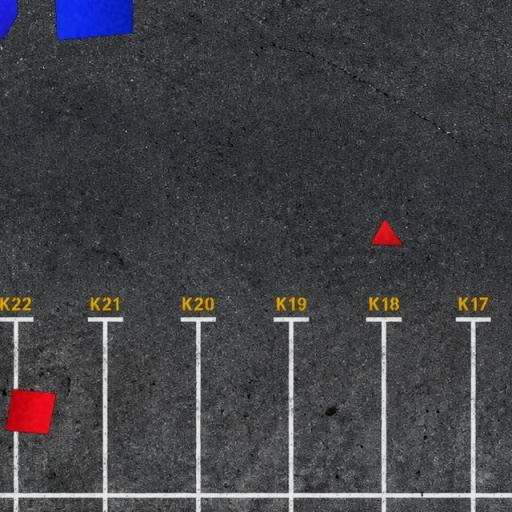RED_SQUARE: (5, 389, 57, 435)
